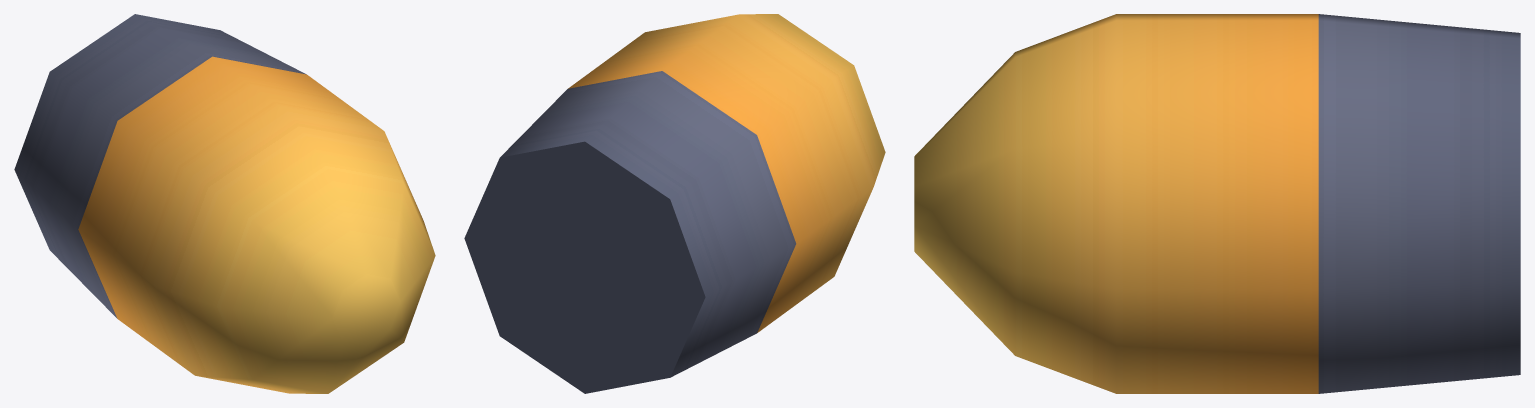
File: p-tower-weapon-ammo-bullet.glb
3 renders of one model, left to right at view 1: azimuth 30°, elevation 25°; view 2: azimuth 150°, elevation 25°; view 3: azimuth 270°, elevation 25°, orthographic. The views are drawn at different scales.
Parts seen in each view (by area): view 1: weapon-ammo-bullet; view 2: weapon-ammo-bullet; view 3: weapon-ammo-bullet.
Boxes of the visible parts, bbox=[...] form: weapon-ammo-bullet: bbox=[14, 14, 435, 393]; weapon-ammo-bullet: bbox=[464, 14, 885, 393]; weapon-ammo-bullet: bbox=[914, 14, 1520, 393].
Size of the model in its own units: 0.2 by 0.2 by 0.3.
Materials: 1 (1 with a texture image).
